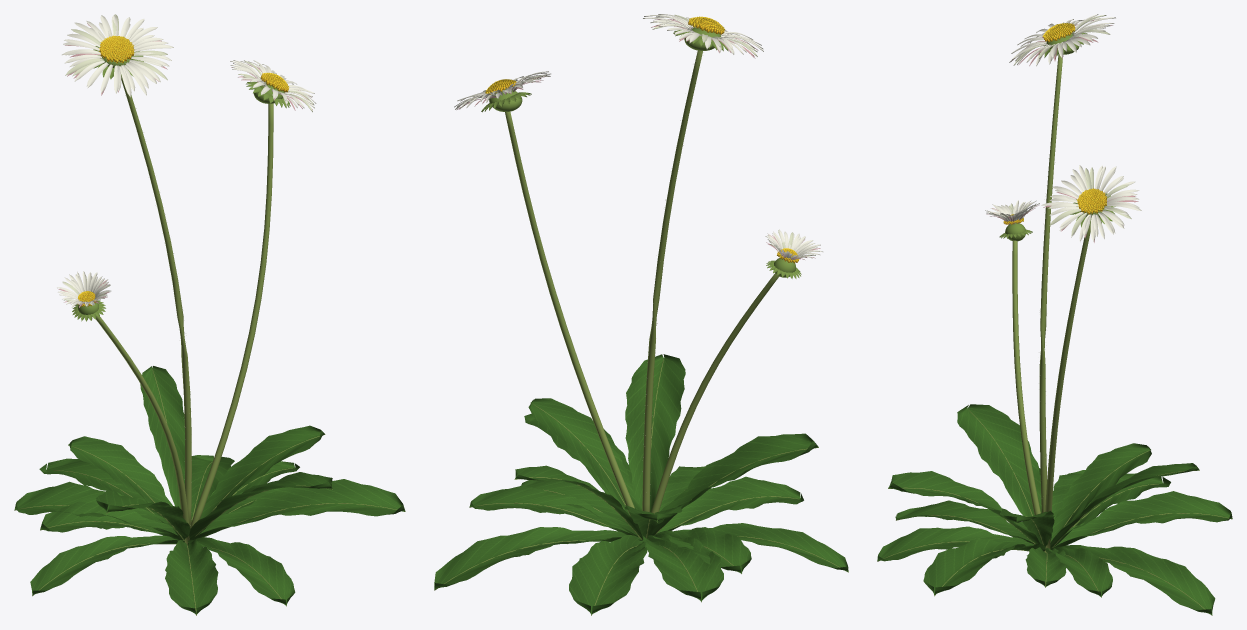
3 renders of one model, left to right at view 1: azimuth 30°, elevation 25°; view 2: azimuth 150°, elevation 25°; view 3: azimuth 270°, elevation 25°, orthographic. The views are drawn at different scales.
Parts seen in each view (by area): view 1: Basal spoon-leaf rosette, Leafless flower scapes, White ray florets, Golden tubular disc florets, Green involucre, Flower receptacles; view 2: Basal spoon-leaf rosette, Leafless flower scapes, White ray florets, Flower receptacles, Golden tubular disc florets, Green involucre; view 3: Basal spoon-leaf rosette, Leafless flower scapes, White ray florets, Golden tubular disc florets, Flower receptacles.
Boxes of the visible parts, x1,y1,x2,y2 form: Basal spoon-leaf rosette: (14,366,405,615); Leafless flower scapes: (96,75,273,544); White ray florets: (57,14,316,307); Golden tubular disc florets: (77,35,288,306); Green involucre: (72,46,290,321); Flower receptacles: (78,55,284,317); Basal spoon-leaf rosette: (434,354,848,615); Leafless flower scapes: (505,50,779,537); White ray florets: (454,14,823,259); Flower receptacles: (489,27,796,277); Golden tubular disc florets: (485,16,799,263); Green involucre: (481,30,801,278); Basal spoon-leaf rosette: (877,404,1232,615); Leafless flower scapes: (1012,54,1090,553); White ray florets: (985,14,1141,241); Golden tubular disc florets: (1003,23,1106,224); Flower receptacles: (1005,33,1107,241).
Size of the model in its own units: 0.0956 by 0.1443 by 0.0908.
Materials: 8 (1 with a texture image).
